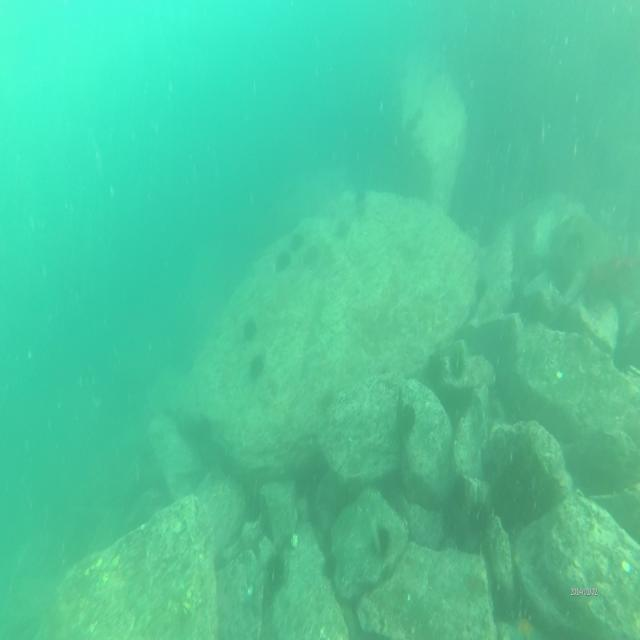echinus: (264, 556, 285, 600), (194, 410, 217, 447), (448, 346, 468, 383), (371, 522, 392, 554), (450, 472, 468, 509), (470, 501, 489, 536), (398, 400, 416, 436), (248, 352, 266, 383), (474, 270, 490, 302), (303, 240, 318, 272), (453, 525, 467, 558), (273, 248, 291, 273), (324, 550, 338, 580), (353, 179, 369, 205), (242, 316, 257, 342), (404, 111, 418, 137), (290, 226, 303, 247)
starfish: (511, 614, 540, 640)
